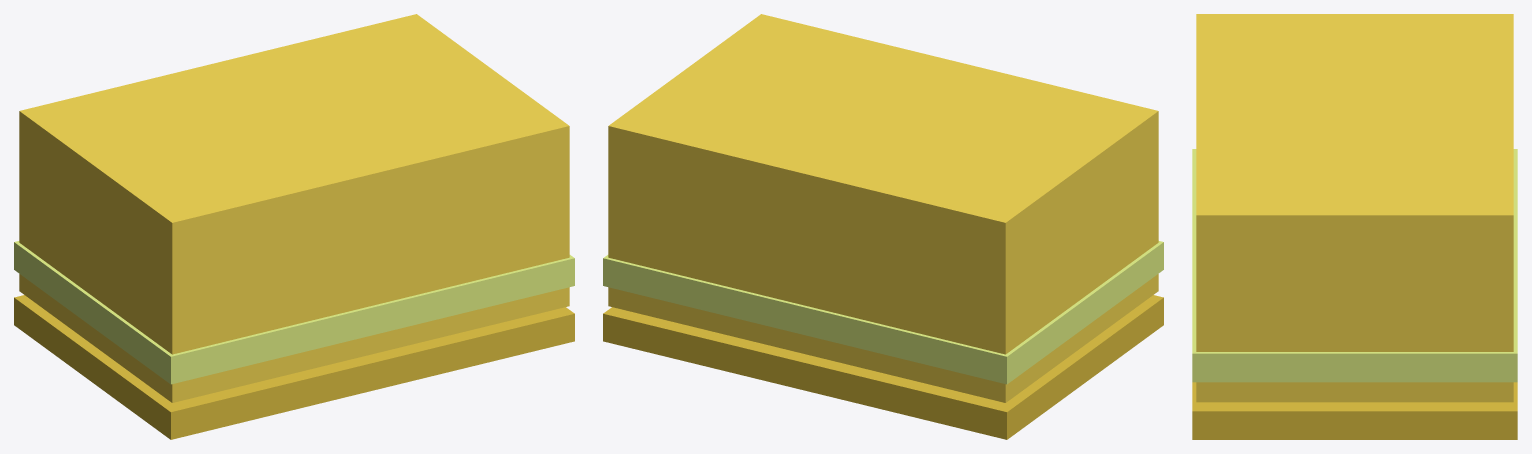
File: bombeiro_saia.glb
3 views of the same model, side by side, from view 1: azimuth 30°, elevation 25°; view 2: azimuth 150°, elevation 25°; view 3: azimuth 270°, elevation 25° (orthographic). The views are drawn at different scales.
Visible parts, largest first — view 1: bombeiro_saia; view 2: bombeiro_saia; view 3: bombeiro_saia.
Boxes of the visible parts, box(x1,y1,x2,y2) form: bombeiro_saia: box(14, 14, 574, 439); bombeiro_saia: box(603, 14, 1163, 439); bombeiro_saia: box(1192, 14, 1517, 439).
Bounding box in the file's own units: 0.61 × 0.31 × 0.41.
